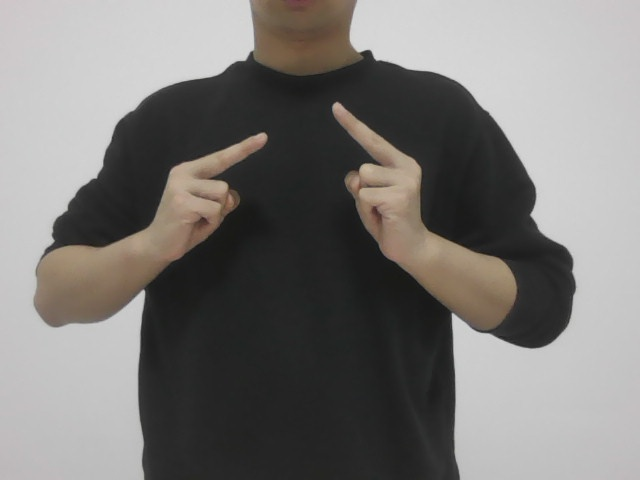know: (148, 96, 434, 284)
